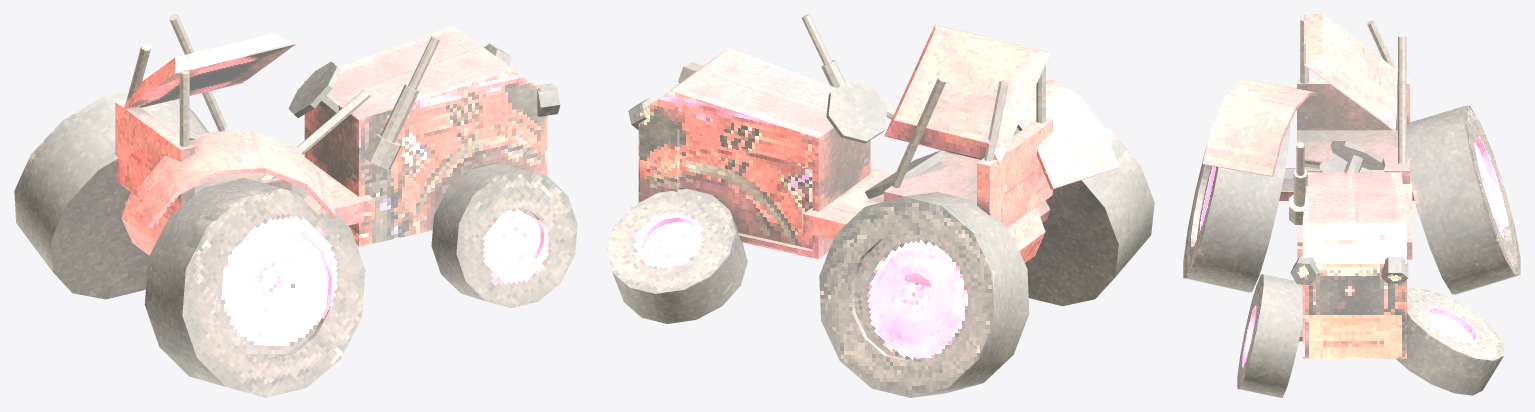
The model's file is Tractor_Destroyed.glb.
3 views of the same model, side by side, from view 1: azimuth 30°, elevation 25°; view 2: azimuth 150°, elevation 25°; view 3: azimuth 270°, elevation 25° (orthographic). The views are drawn at different scales.
Visible parts, largest first — view 1: Tractor_Destroyed; view 2: Tractor_Destroyed; view 3: Tractor_Destroyed.
Part boxes in pixels (x1=…): Tractor_Destroyed: x1=14, y1=14, x2=577, y2=397; Tractor_Destroyed: x1=606, y1=14, x2=1154, y2=397; Tractor_Destroyed: x1=1183, y1=14, x2=1520, y2=397.
Bounding box in the file's own units: 7.2 × 4.76 × 5.62.
